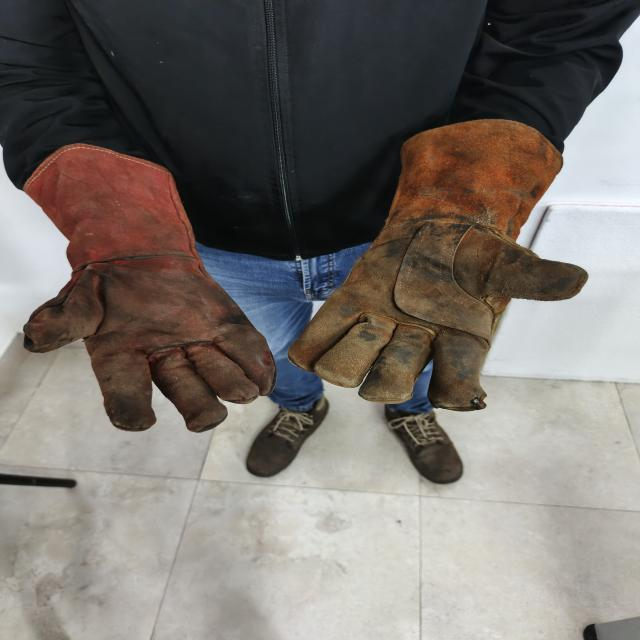gloves: (288, 120, 588, 411), (24, 144, 276, 432)
